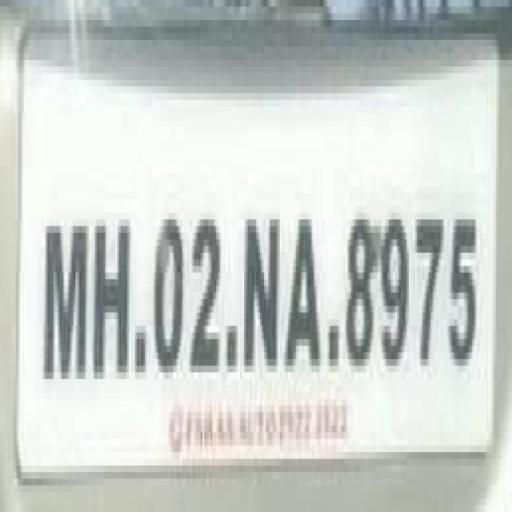number plate: (26, 40, 506, 458)
